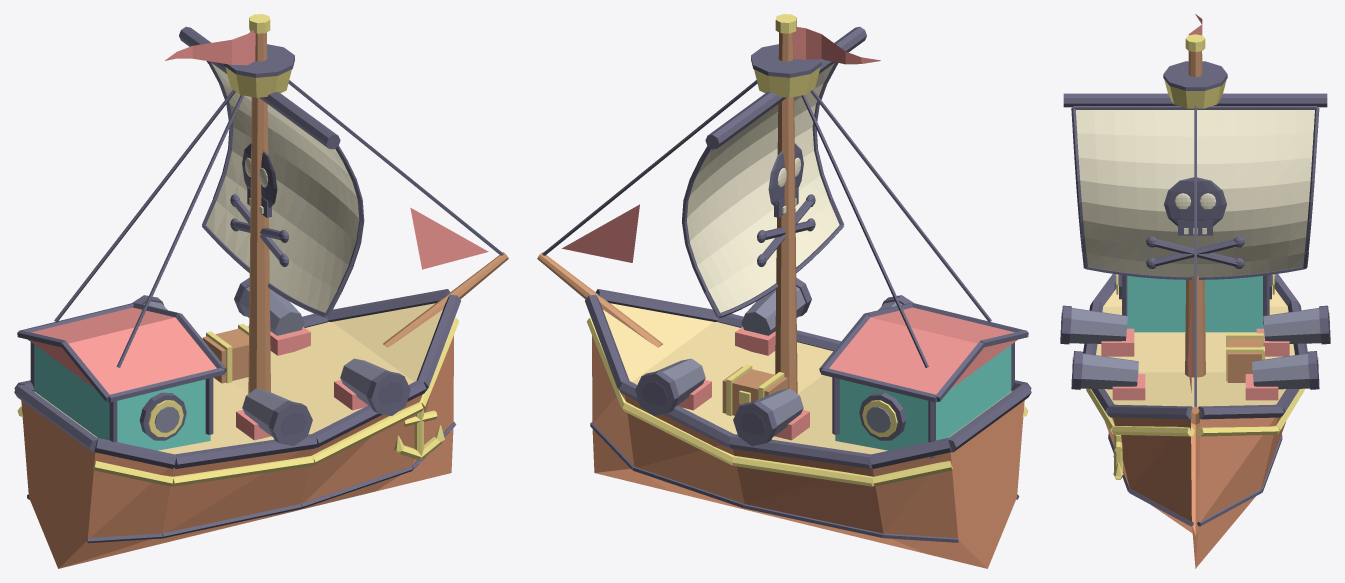
Rendered from pirateship.glb.
The picture shows the model from 3 angles, left to right: view 1: azimuth 30°, elevation 25°; view 2: azimuth 150°, elevation 25°; view 3: azimuth 270°, elevation 25°; orthographic projection. The views are drawn at different scales.
Visible parts, largest first — view 1: black geometry, hull geometry, canvas geometry, red geometry, deck geometry, wood geometry, gold geometry, teal geometry, iron geometry; view 2: black geometry, hull geometry, canvas geometry, red geometry, deck geometry, wood geometry, gold geometry, teal geometry, iron geometry; view 3: canvas geometry, black geometry, hull geometry, deck geometry, iron geometry, teal geometry, gold geometry, wood geometry, red geometry.
Part boxes in pixels (left/top/right/bottom): black geometry: left=14, top=26, right=503, bottom=543; hull geometry: left=21, top=335, right=453, bottom=568; canvas geometry: left=206, top=63, right=359, bottom=312; red geometry: left=28, top=30, right=488, bottom=440; deck geometry: left=34, top=303, right=442, bottom=454; wood geometry: left=202, top=32, right=508, bottom=393; gold geometry: left=17, top=14, right=459, bottom=486; teal geometry: left=34, top=345, right=210, bottom=450; iron geometry: left=143, top=286, right=389, bottom=436; black geometry: left=542, top=26, right=1031, bottom=542; hull geometry: left=592, top=335, right=1024, bottom=568; canvas geometry: left=687, top=63, right=839, bottom=312; red geometry: left=562, top=27, right=1017, bottom=440; deck geometry: left=603, top=303, right=1011, bottom=454; wood geometry: left=537, top=32, right=797, bottom=415; gold geometry: left=586, top=14, right=1028, bottom=486; teal geometry: left=835, top=345, right=1011, bottom=450; iron geometry: left=656, top=286, right=902, bottom=436; canvas geometry: left=1076, top=110, right=1314, bottom=276; black geometry: left=1060, top=61, right=1330, bottom=526; hull geometry: left=1105, top=416, right=1285, bottom=568; deck geometry: left=1096, top=285, right=1294, bottom=407; iron geometry: left=1069, top=274, right=1321, bottom=389; teal geometry: left=1127, top=276, right=1263, bottom=332; gold geometry: left=1086, top=34, right=1304, bottom=479; wood geometry: left=1185, top=51, right=1261, bottom=424; red geometry: left=1101, top=14, right=1289, bottom=400.
Bounding box in the file's own units: 7.13 × 7.49 × 4.11.
